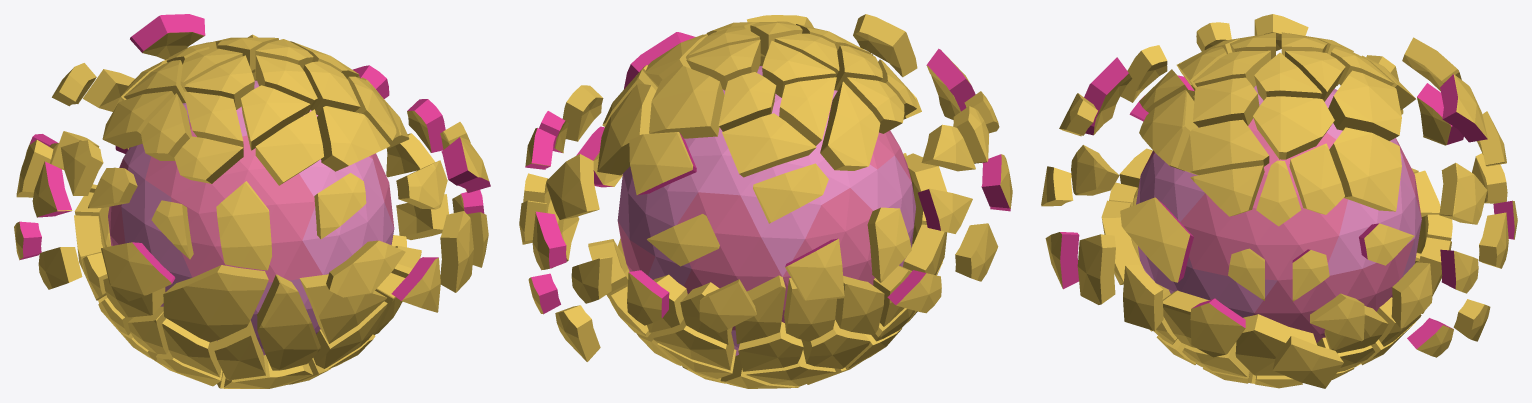
The model's file is planet2.fbx.
3 views of the same model, side by side, from view 1: azimuth 30°, elevation 25°; view 2: azimuth 150°, elevation 25°; view 3: azimuth 270°, elevation 25° (orthographic). The views are drawn at different scales.
Visible parts, largest first — view 1: Icosphere.003; view 2: Icosphere.003; view 3: Icosphere.003.
Boxes of the visible parts, x1,y1,x2,y2 form: Icosphere.003: (14,14,490,388); Icosphere.003: (519,14,1012,388); Icosphere.003: (1041,14,1517,388).
Size of the model in its own units: 15.11 by 11.28 by 15.12.
